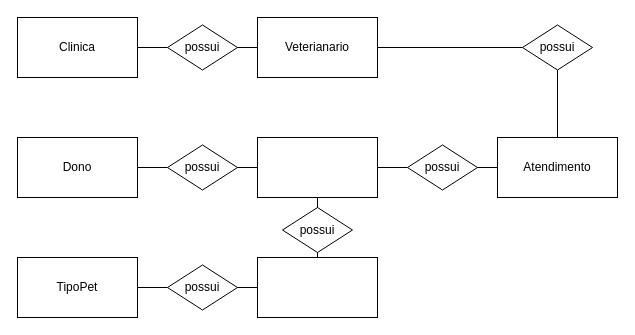
Some shapes in this 635 by 335 pixel diagram are drawn without their labels. The shapes that lost their labels are listed below. From the top down, each one's centre as x and y in pixels, then its label:
the point at 317,167: Pet
the point at 317,287: Raca
